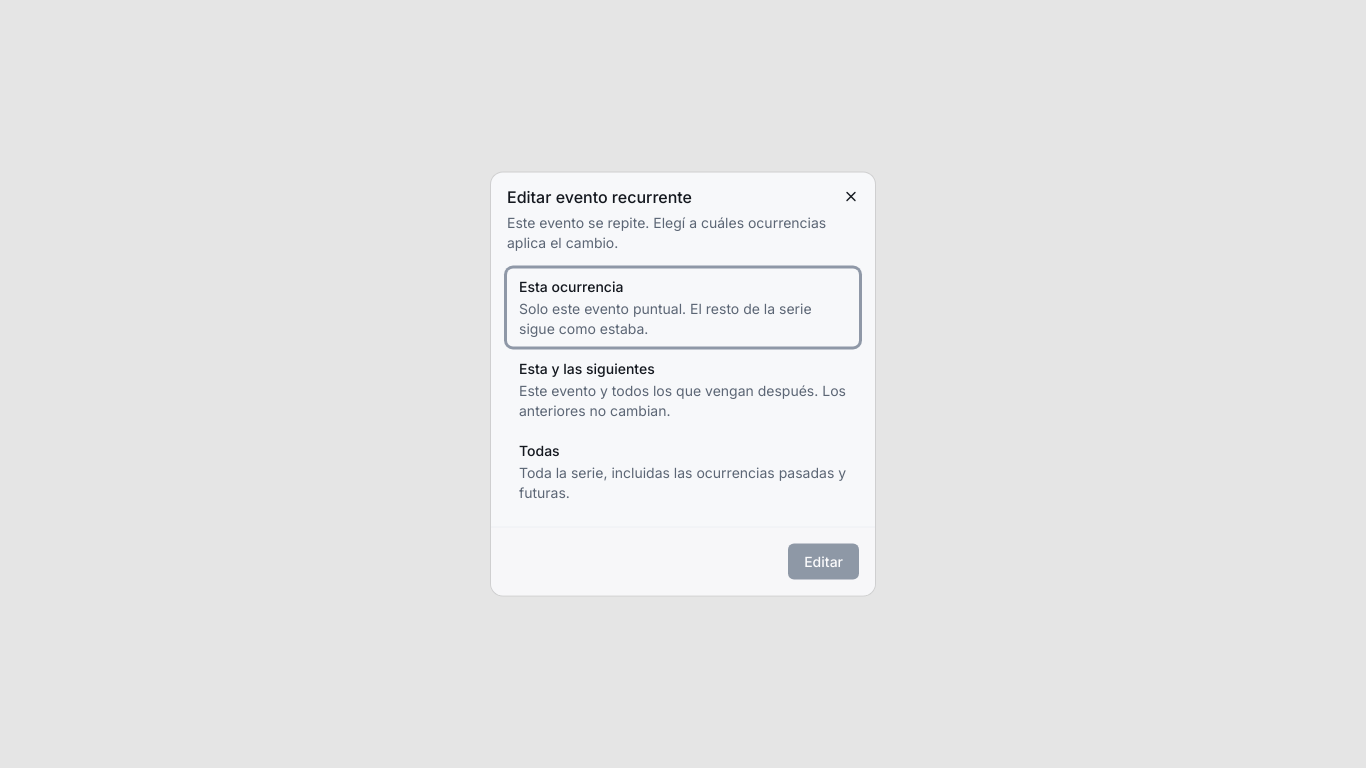
Test: RecurrenceScopeDialog › elegir una opción la marca y habilita confirmar
Click the radio button labelled "Esta y las siguientes": (683, 390) [507, 350, 859, 428]
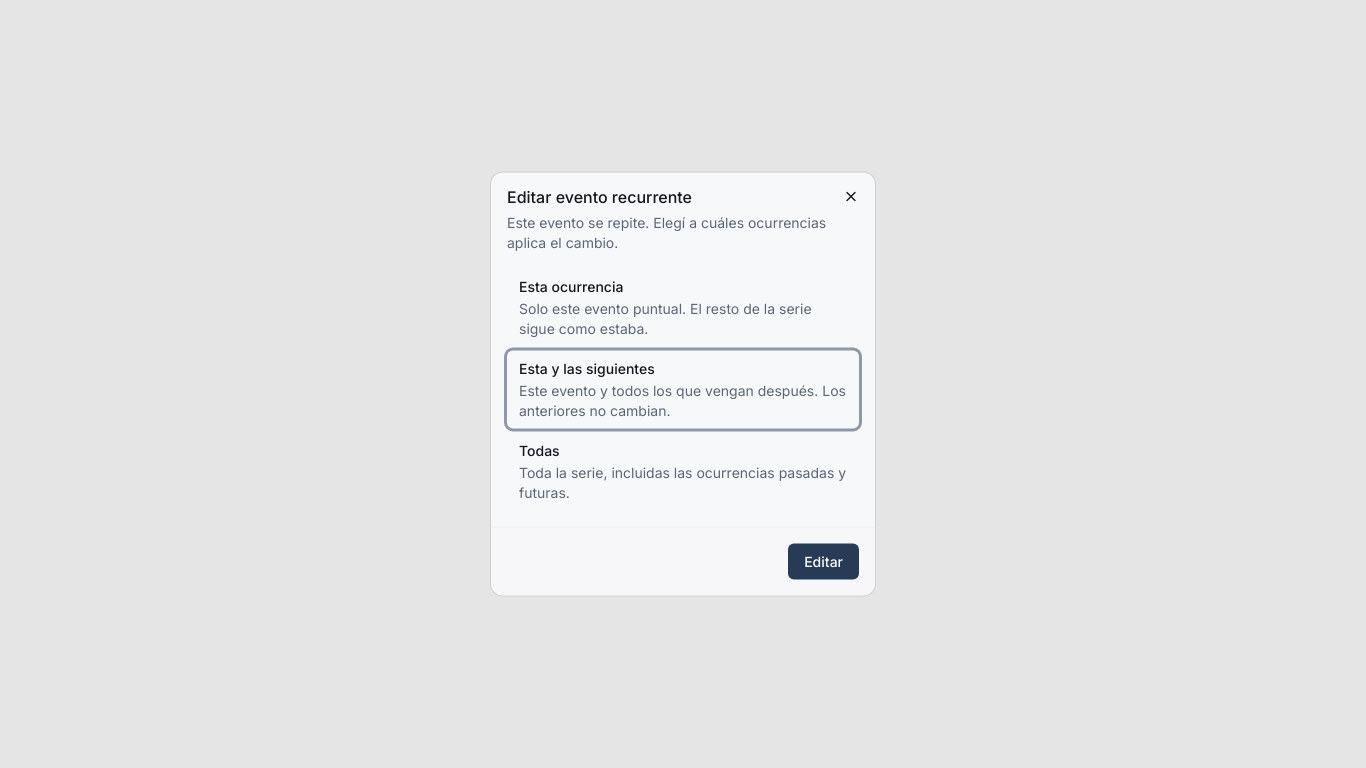
expect the button "Editar" is enabled: met, box [788, 544, 859, 580]
